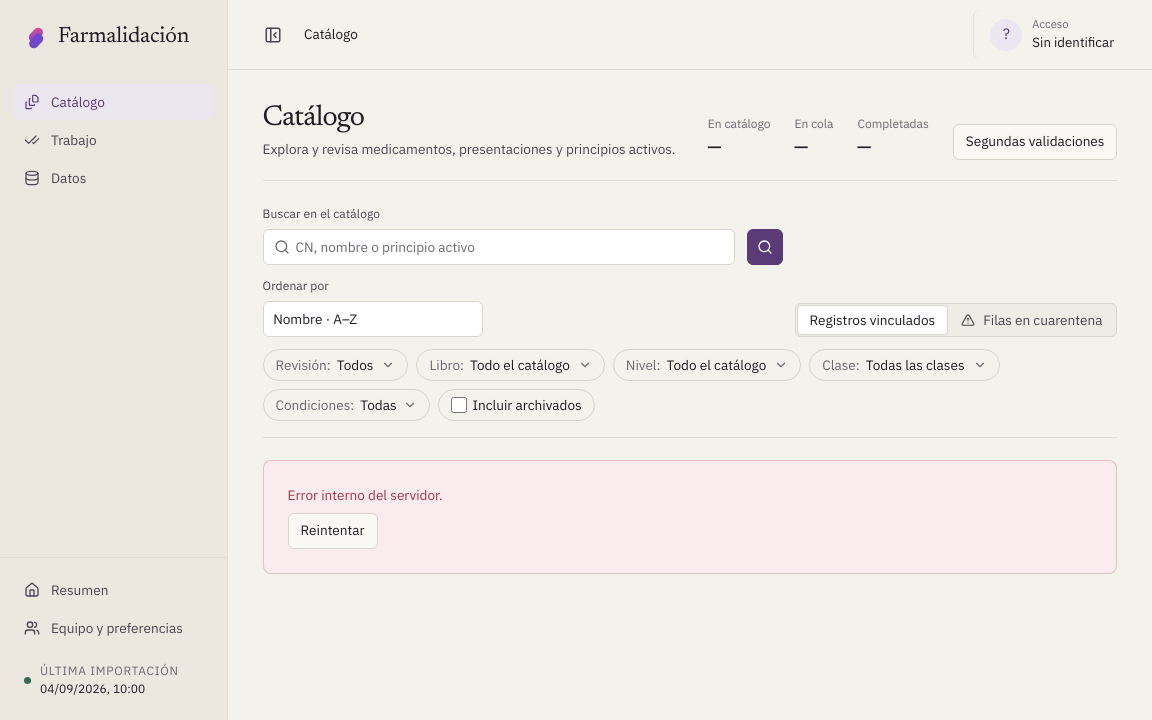
Test: manejo de errores y reintento › muestra error y botón de reintento cuando falla /catalog/identities
Expected: the text "Error interno del servidor." is shown, [288,485,443,505]
Click the button "Reintentar" at x=332, y=531, box [288,513,378,549]
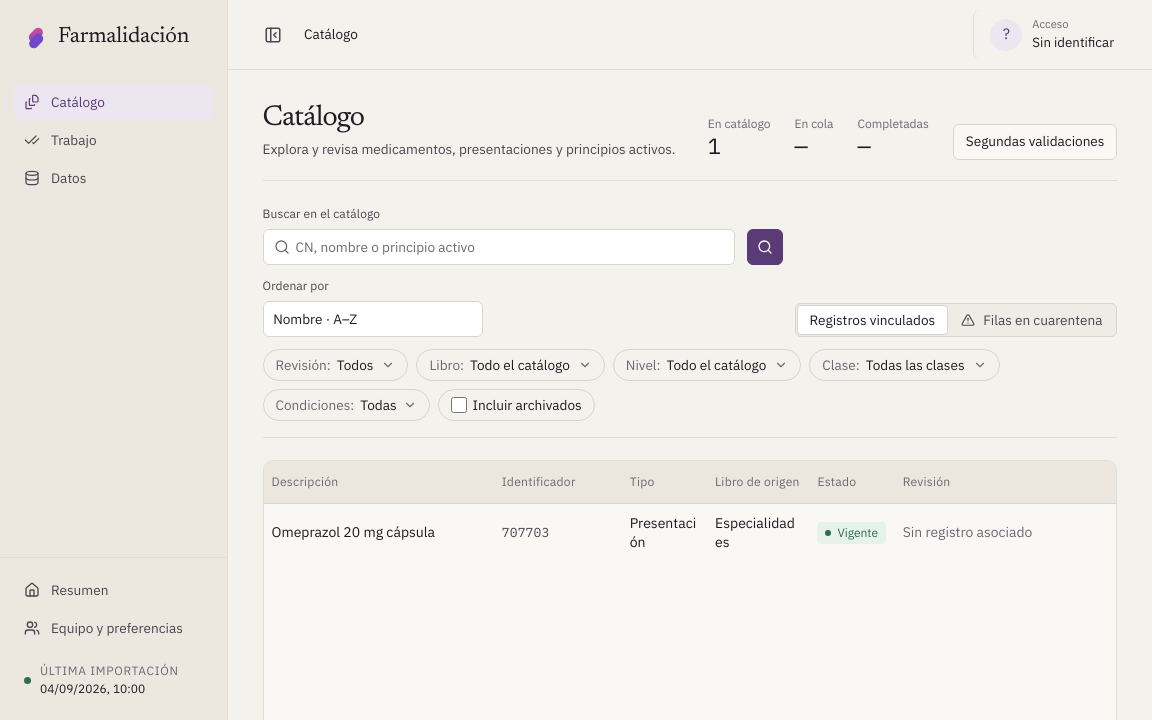
Expected: the button "Omeprazol 20 mg cápsula" is shown, [272,522,486,543]
